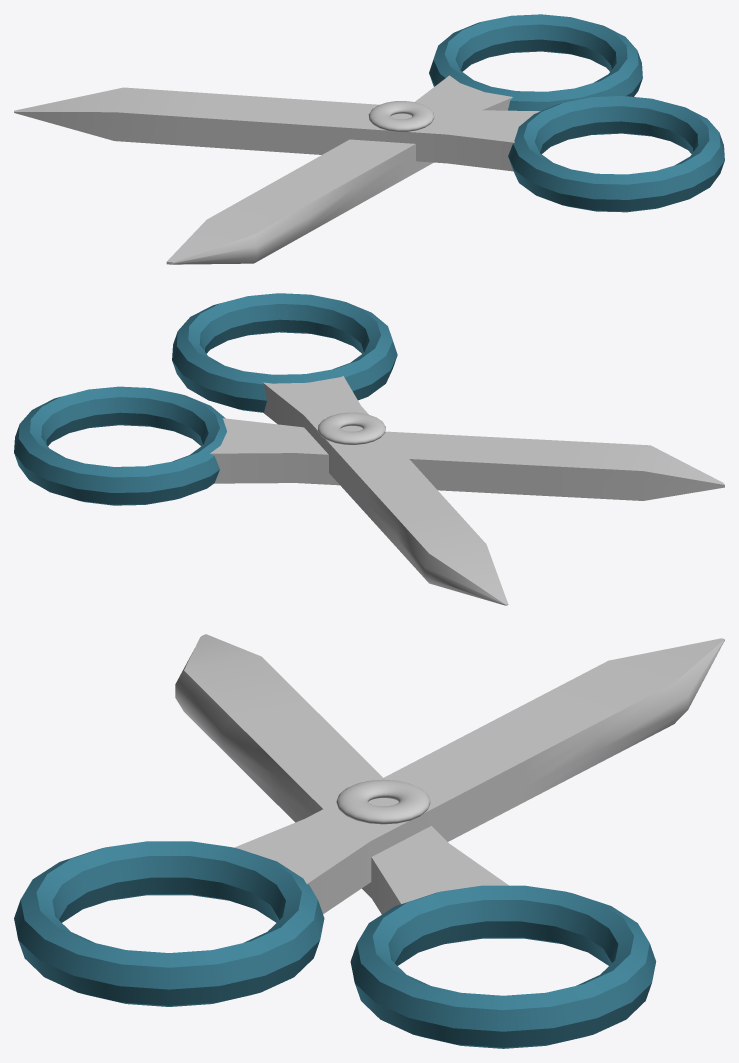
Rendered from Scissoring.fbx.
The picture shows the model from 3 angles, top to bottom: view 1: azimuth 30°, elevation 25°; view 2: azimuth 150°, elevation 25°; view 3: azimuth 270°, elevation 25°; orthographic projection. The views are drawn at different scales.
Parts seen in each view (by area): view 1: pTorus7; view 2: pTorus7; view 3: pTorus7.
Part boxes in pixels (x1=…): pTorus7: x1=14, y1=14, x2=724, y2=264; pTorus7: x1=14, y1=293, x2=724, y2=605; pTorus7: x1=14, y1=634, x2=724, y2=1048.
Size of the model in its own units: 11.06 by 0.9728 by 8.42.
